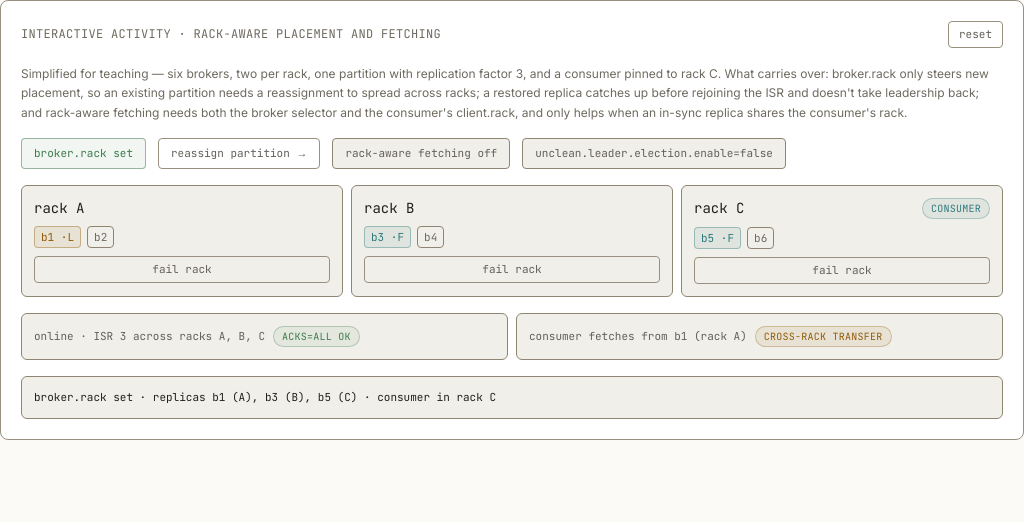
RackPlacementDemo › reassigning does not resurrect replicas whose rack is still down
The width and height of the screenshot is (1024, 522).
Click the 2nd button "fail rack" at (512, 269), box x1=364 y1=256 x2=660 y2=282
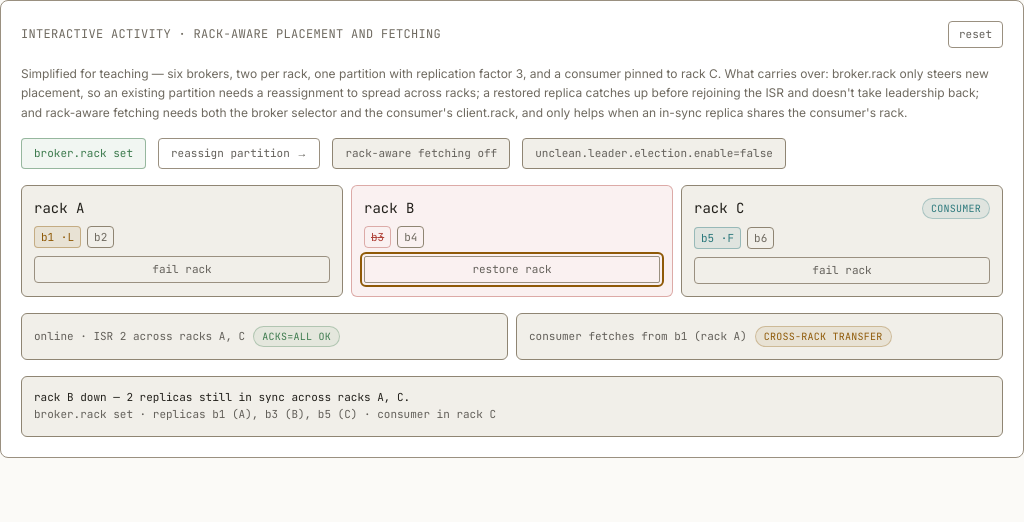
expect the text with test id "partition-status" shows "ISR 2 across racks A, C": met, box x1=34 y1=329 x2=245 y2=343
Click the button "broker.rack set" at (84, 153), box x1=21 y1=138 x2=146 y2=168
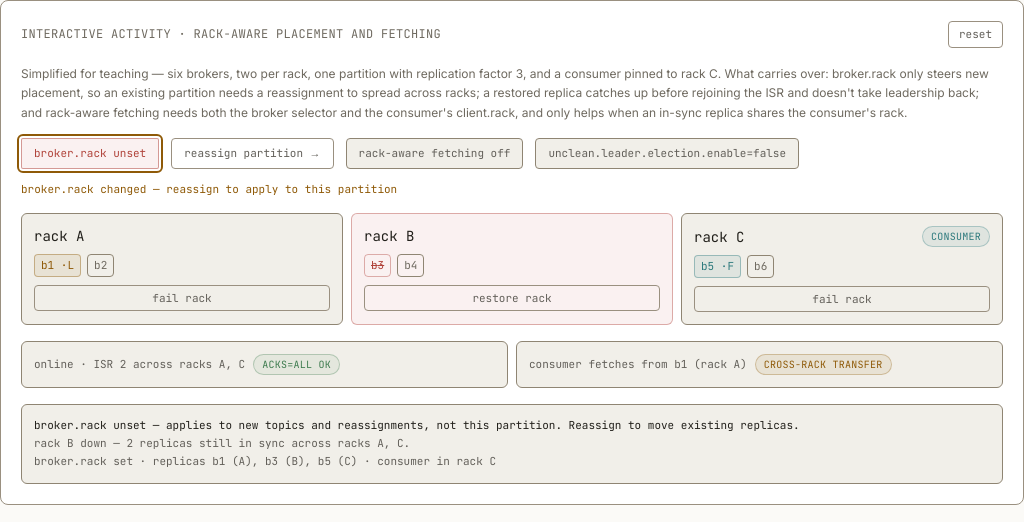
Click the button "reassign partition →" at (252, 153), box x1=171 y1=138 x2=334 y2=168
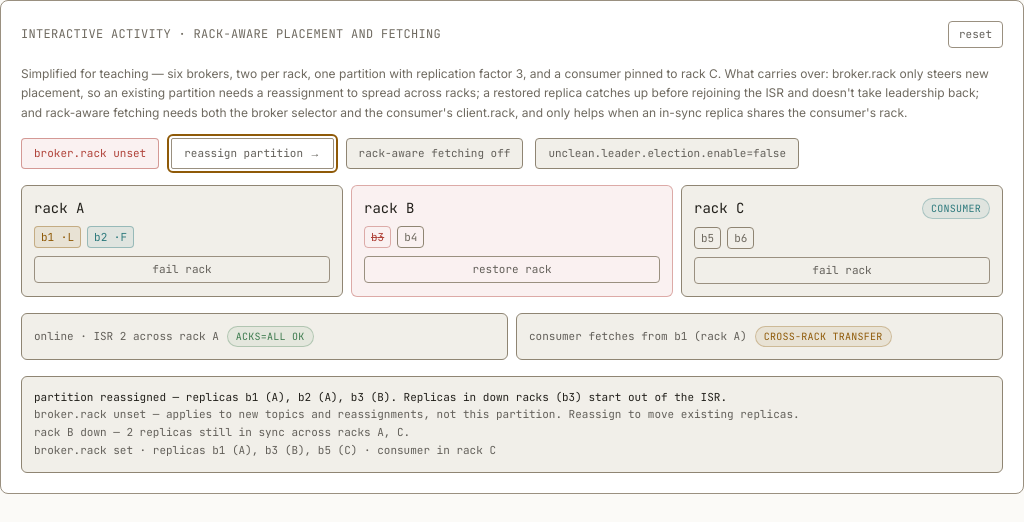
expect the text with test id "partition-status" shows "ISR 2": met, box x1=34 y1=329 x2=219 y2=343
expect the text "Replicas in down racks (b3) start out of the ISR" is shown: met, box x1=34 y1=390 x2=727 y2=404
